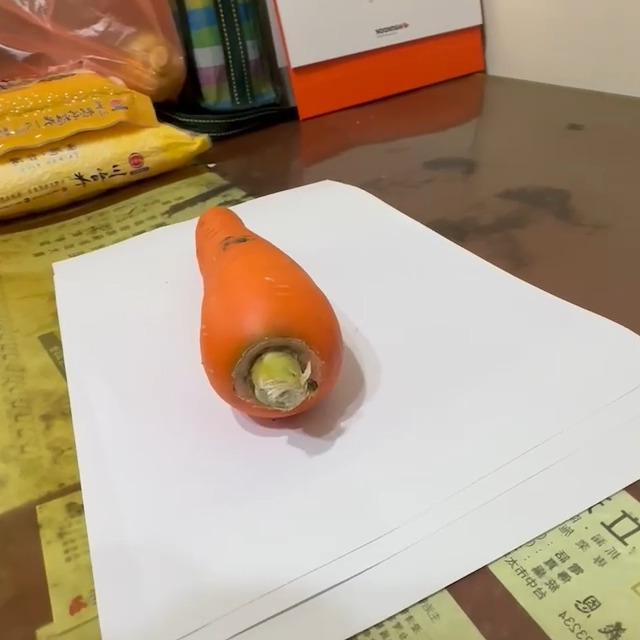carrot: (193, 205, 348, 428)
